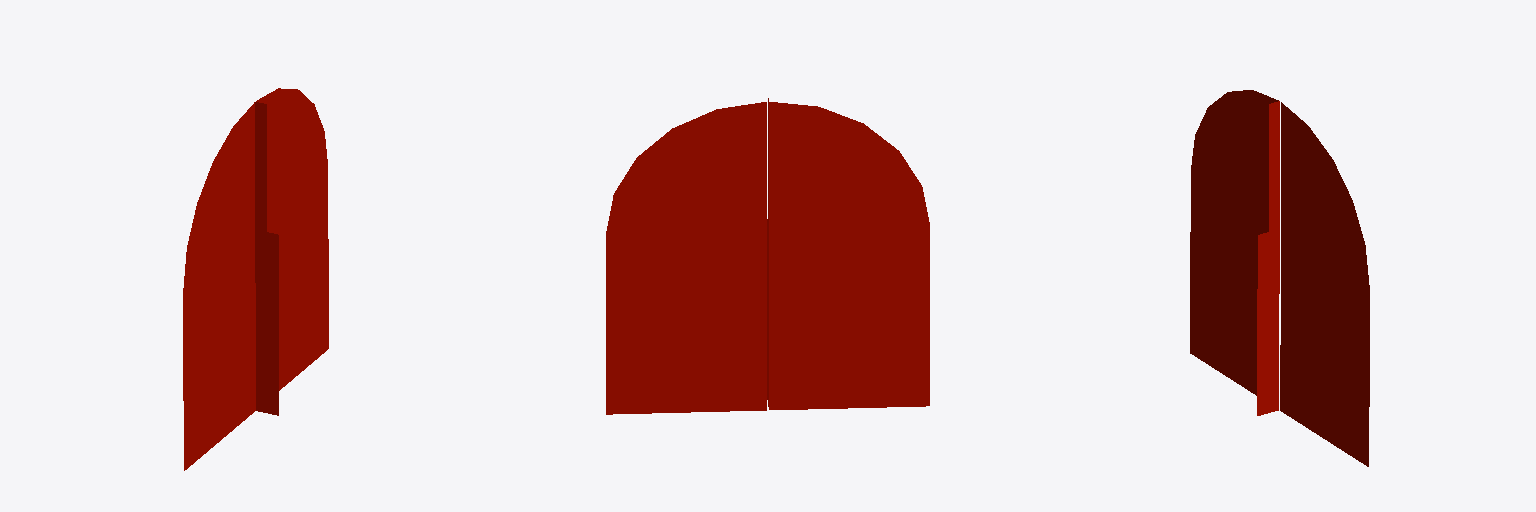
The model's file is door.obj.
3 views of the same model, side by side, from view 1: azimuth 30°, elevation 25°; view 2: azimuth 150°, elevation 25°; view 3: azimuth 270°, elevation 25° (orthographic).
Visible parts, largest first — view 1: door; view 2: door; view 3: door.
Part boxes in pixels (left/top/right/bottom): door: left=183, top=88, right=328, bottom=470; door: left=606, top=98, right=929, bottom=414; door: left=1190, top=90, right=1369, bottom=466.
Bounding box in the file's own units: 0.1761 × 0.2216 × 0.1165.